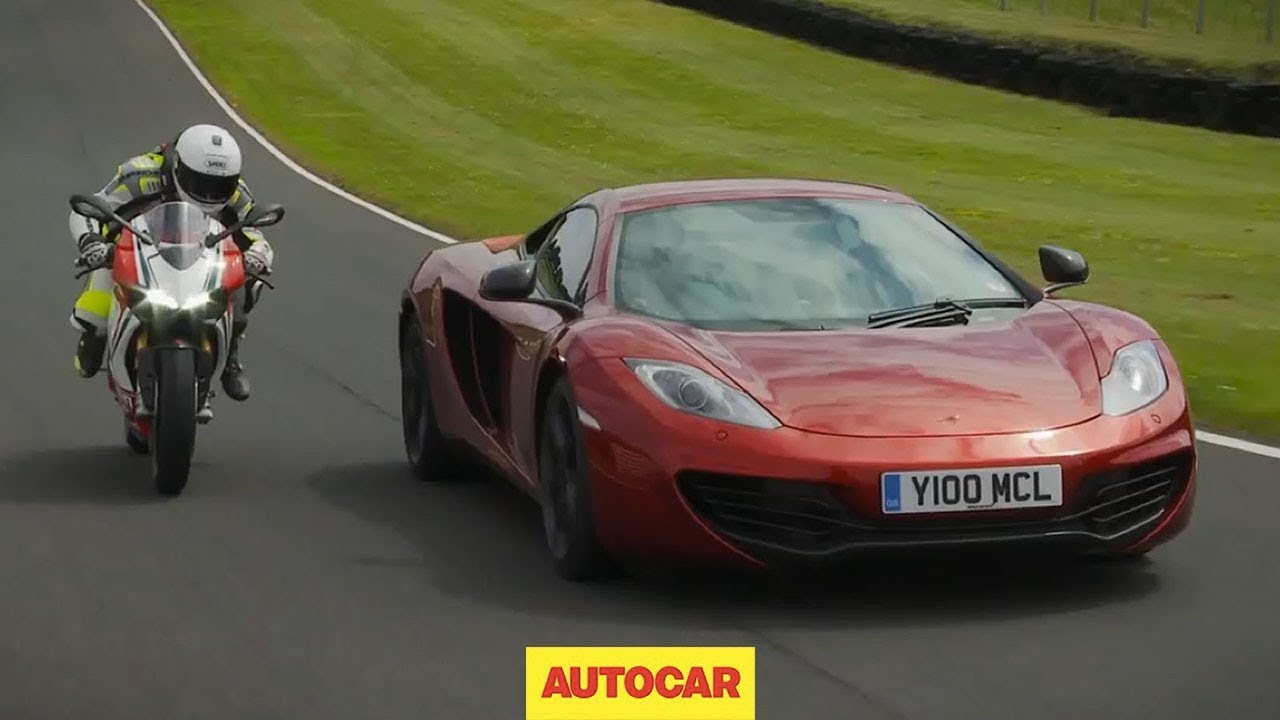car: (387, 173, 1206, 587)
motorcycle: (52, 118, 299, 513)
